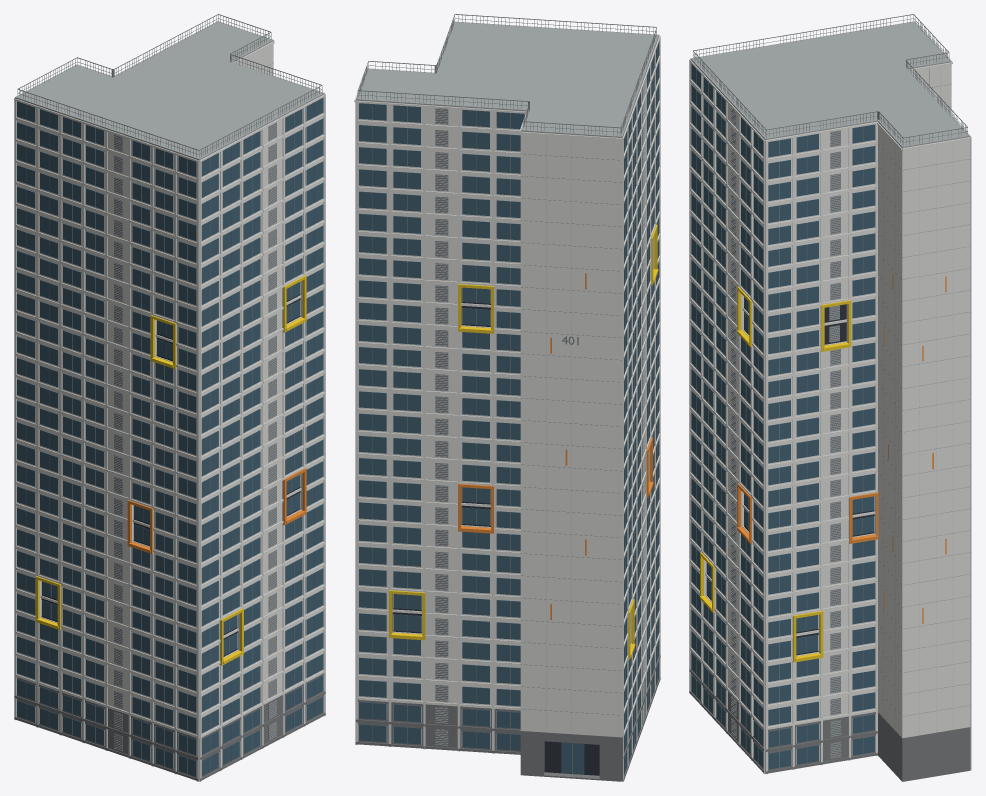
Rendered from bespoke-songpa-helio-city-401.glb.
3 renders of one model, left to right at view 1: azimuth 30°, elevation 25°; view 2: azimuth 150°, elevation 25°; view 3: azimuth 270°, elevation 25°, orthographic. The views are drawn at different scales.
Visible parts, largest first — view 1: Helio401_editable_Helio401_dark_blue_grey_glazing, Helio401_editable_Helio401_white_slab_frames, Helio401_editable_Helio401_low_roof_deck, Helio401_editable_Helio401_grey_service_grille, Helio401_editable_Helio401_dark_grey_twofloor_base, Helio401_editable_Helio401_blankwall_grey_panels, Helio401_editable_Helio401_yellow_projecting_rectangular_fra, Helio401_editable_Helio401_orange_narrow_accent, Helio401_editable_Helio401_deep_shaded_frame_recess; view 2: Helio401_editable_Helio401_white_slab_frames, Helio401_editable_Helio401_dark_blue_grey_glazing, Helio401_editable_Helio401_low_roof_deck, Helio401_editable_Helio401_grey_service_grille, Helio401_editable_Helio401_dark_grey_twofloor_base, Helio401_editable_Helio401_blankwall_grey_panels, Helio401_editable_Helio401_yellow_projecting_rectangular_fra, Helio401_editable_Helio401_deep_shaded_frame_recess, Helio401_editable_Helio401_orange_narrow_accent; view 3: Helio401_editable_Helio401_white_slab_frames, Helio401_editable_Helio401_dark_blue_grey_glazing, Helio401_editable_Helio401_low_roof_deck, Helio401_editable_Helio401_grey_service_grille, Helio401_editable_Helio401_dark_grey_twofloor_base, Helio401_editable_Helio401_blankwall_grey_panels, Helio401_editable_Helio401_yellow_projecting_rectangular_fra, Helio401_editable_Helio401_orange_narrow_accent, Helio401_editable_Helio401_deep_shaded_frame_recess.
Part boxes in pixels (x1,y1,x2,y2): Helio401_editable_Helio401_dark_blue_grey_glazing: (17, 98, 323, 776); Helio401_editable_Helio401_white_slab_frames: (14, 40, 325, 781); Helio401_editable_Helio401_low_roof_deck: (15, 21, 324, 160); Helio401_editable_Helio401_grey_service_grille: (17, 14, 322, 773); Helio401_editable_Helio401_dark_grey_twofloor_base: (14, 673, 325, 780); Helio401_editable_Helio401_blankwall_grey_panels: (114, 122, 276, 750); Helio401_editable_Helio401_yellow_projecting_rectangular_fra: (35, 275, 306, 665); Helio401_editable_Helio401_orange_narrow_accent: (127, 468, 306, 553); Helio401_editable_Helio401_deep_shaded_frame_recess: (41, 294, 300, 656); Helio401_editable_Helio401_white_slab_frames: (354, 23, 660, 781); Helio401_editable_Helio401_dark_blue_grey_glazing: (359, 42, 659, 774); Helio401_editable_Helio401_low_roof_deck: (355, 21, 659, 137); Helio401_editable_Helio401_grey_service_grille: (357, 14, 657, 773); Helio401_editable_Helio401_dark_grey_twofloor_base: (355, 655, 660, 781); Helio401_editable_Helio401_blankwall_grey_panels: (435, 83, 644, 745); Helio401_editable_Helio401_yellow_projecting_rectangular_fra: (389, 224, 658, 659); Helio401_editable_Helio401_deep_shaded_frame_recess: (392, 288, 599, 775); Helio401_editable_Helio401_orange_narrow_accent: (458, 273, 653, 619); Helio401_editable_Helio401_white_slab_frames: (689, 22, 971, 774); Helio401_editable_Helio401_dark_blue_grey_glazing: (691, 64, 874, 769); Helio401_editable_Helio401_low_roof_deck: (690, 21, 970, 147); Helio401_editable_Helio401_grey_service_grille: (693, 14, 969, 767); Helio401_editable_Helio401_dark_grey_twofloor_base: (689, 651, 970, 781); Helio401_editable_Helio401_blankwall_grey_panels: (731, 67, 953, 758); Helio401_editable_Helio401_yellow_projecting_rectangular_fra: (700, 286, 851, 662); Helio401_editable_Helio401_orange_narrow_accent: (737, 274, 946, 623); Helio401_editable_Helio401_deep_shaded_frame_recess: (706, 304, 874, 655).
Size of the model in its own units: 34.77 by 82.2 by 32.69.
